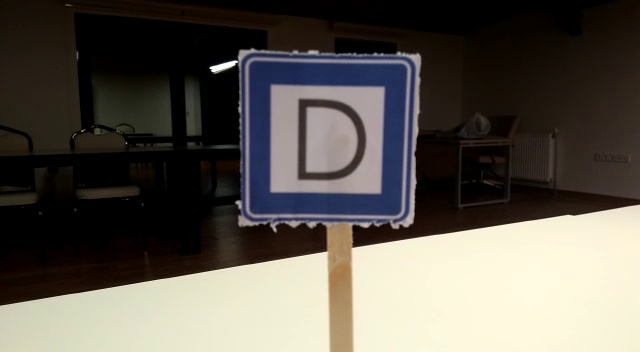durak: (242, 52, 419, 222)
